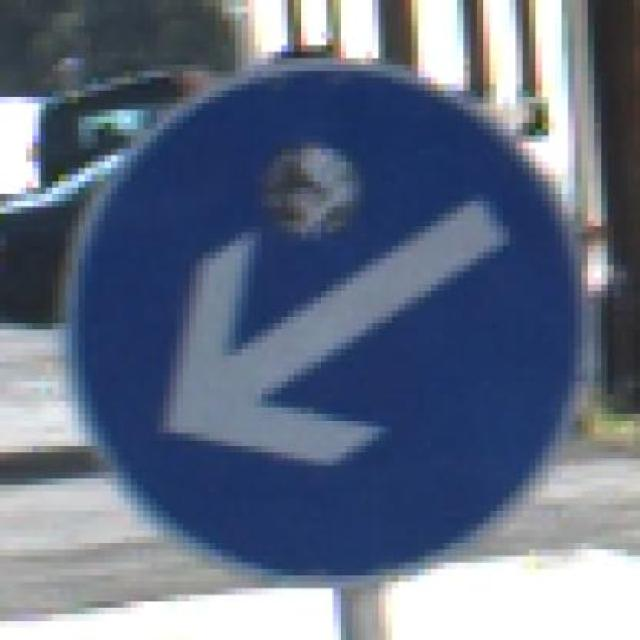Keep-Left: (77, 32, 594, 602)
